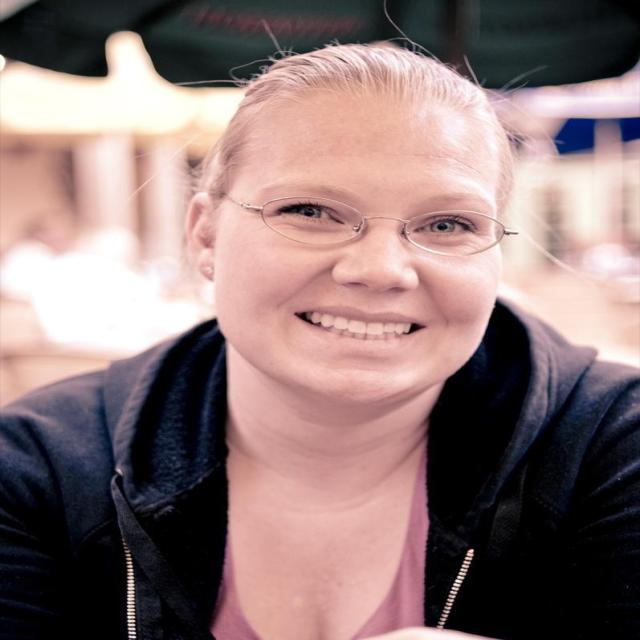no-glass: (266, 198, 486, 244)
